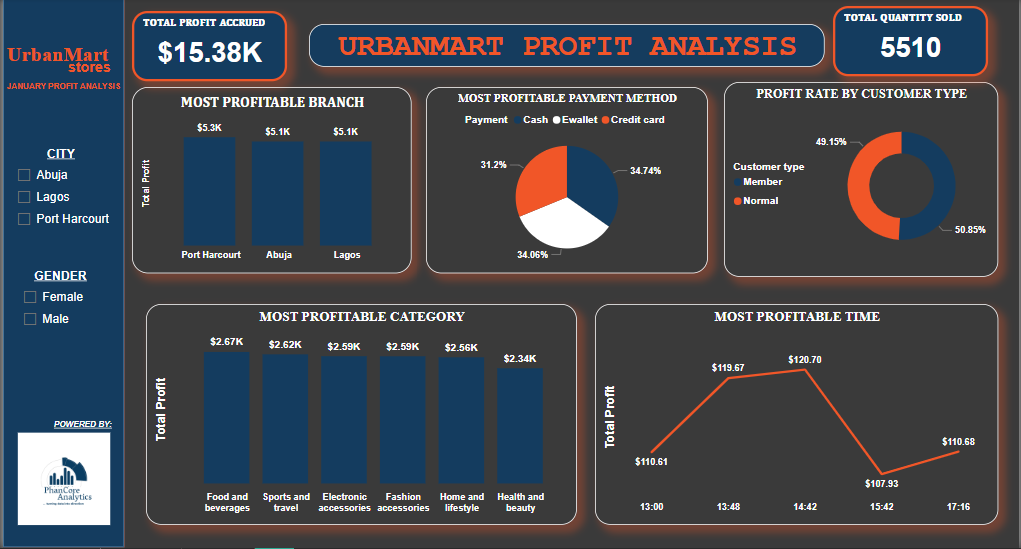

The page's visual inventory and layout, read from the dashboard file:
{"tool":"powerbi","page":{"name":"PROFIT","canvas":[1330,720],"ordinal":0},"visuals":[{"type":"shape","box":[0,0,158.7,719.3],"z":0},{"type":"card","title":"TOTAL PROFIT ACCRUED","fields":{"Values":["Sum(mkt.Profit)"]},"box":[168.8,17.2,203.1,91.5],"z":1000},{"type":"columnChart","title":"MOST PROFITABLE BRANCH","fields":{"Y":["Sum(mkt.Profit)"],"Category":["mkt.City"]},"box":[169.3,117,366.1,243.6],"z":2000},{"type":"pieChart","title":"MOST PROFITABLE PAYMENT METHOD","fields":{"Category":["mkt.Payment"],"Y":["Sum(mkt.Profit)"]},"box":[553.3,117,368.9,243.6],"z":3000},{"type":"columnChart","title":"MOST PROFITABLE CATEGORY","fields":{"Category":["mkt.Category"],"Y":["Sum(mkt.Profit)"]},"box":[187.2,400.5,564.3,289],"z":4000},{"type":"lineChart","title":"MOST PROFITABLE TIME","fields":{"Y":["Sum(mkt.Profit)"],"Category":["mkt.Time"]},"box":[775.1,400.4,527.7,288.9],"z":5000},{"type":"donutChart","title":"PROFIT RATE BY CUSTOMER TYPE","fields":{"Category":["mkt.Customer type"],"Y":["Sum(mkt.Profit)"]},"box":[943.9,110.1,359,254.6],"z":6000},{"type":"textbox","title":"URBANMART PROFIT ANALYSIS","box":[400.4,34.3,675,55.8],"z":7000},{"type":"textbox","title":"UrbanMart","box":[0,59.3,143.4,35.8],"z":8000},{"type":"textbox","title":"stores","box":[80.3,80.3,69.2,28.4],"z":9000},{"type":"slicer","title":"GENDER","fields":{"Values":["mkt.Gender"]},"box":[14.4,354.8,121.7,91.6],"z":10000},{"type":"slicer","title":"CITY","fields":{"Values":["mkt.City"]},"box":[6.5,195.1,138.8,125.7],"z":11000},{"type":"card","title":"TOTAL QUANTITY SOLD","fields":{"Values":["Sum(mkt.Quantity)"]},"box":[1086.5,10.5,202.9,91.6],"z":12000},{"type":"image","box":[14.4,559,130.9,141.4],"z":13000},{"type":"textbox","box":[61.5,544.6,107.3,44.5],"z":14000},{"type":"textbox","box":[0,102.1,197.7,28.8],"z":15000}]}

Visuals, with their boxes in screenshot pixels (x1, y1, x2, y2), scaled from the page's 1330x720 canvas onto the 1021x549 screenshot:
shape: pyautogui.locateOnScreen(0, 0, 122, 548)
"TOTAL PROFIT ACCRUED" card: pyautogui.locateOnScreen(130, 13, 285, 83)
"MOST PROFITABLE BRANCH" columnChart: pyautogui.locateOnScreen(130, 89, 411, 275)
"MOST PROFITABLE PAYMENT METHOD" pieChart: pyautogui.locateOnScreen(425, 89, 708, 275)
"MOST PROFITABLE CATEGORY" columnChart: pyautogui.locateOnScreen(144, 305, 577, 526)
"MOST PROFITABLE TIME" lineChart: pyautogui.locateOnScreen(595, 305, 1000, 526)
"PROFIT RATE BY CUSTOMER TYPE" donutChart: pyautogui.locateOnScreen(725, 84, 1000, 278)
"URBANMART PROFIT ANALYSIS" textbox: pyautogui.locateOnScreen(307, 26, 826, 69)
"UrbanMart" textbox: pyautogui.locateOnScreen(0, 45, 110, 73)
"stores" textbox: pyautogui.locateOnScreen(62, 61, 115, 83)
"GENDER" slicer: pyautogui.locateOnScreen(11, 271, 104, 340)
"CITY" slicer: pyautogui.locateOnScreen(5, 149, 112, 245)
"TOTAL QUANTITY SOLD" card: pyautogui.locateOnScreen(834, 8, 990, 78)
image: pyautogui.locateOnScreen(11, 426, 112, 534)
textbox: pyautogui.locateOnScreen(47, 415, 130, 449)
textbox: pyautogui.locateOnScreen(0, 78, 152, 100)
